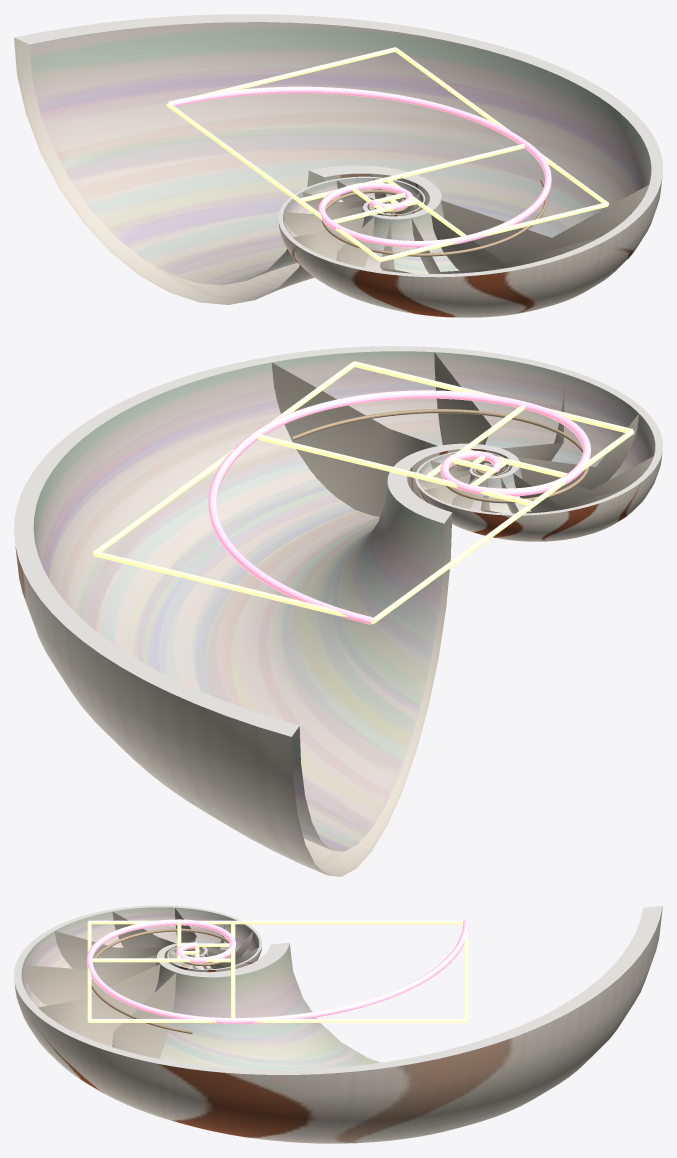
Rendered from nautilus.glb.
The picture shows the model from 3 angles, top to bottom: view 1: azimuth 30°, elevation 25°; view 2: azimuth 150°, elevation 25°; view 3: azimuth 270°, elevation 25°; orthographic projection. The views are drawn at different scales.
Size of the model in its own units: 0.1008 by 0.047 by 0.1628.
40 materials, 3 textured.
